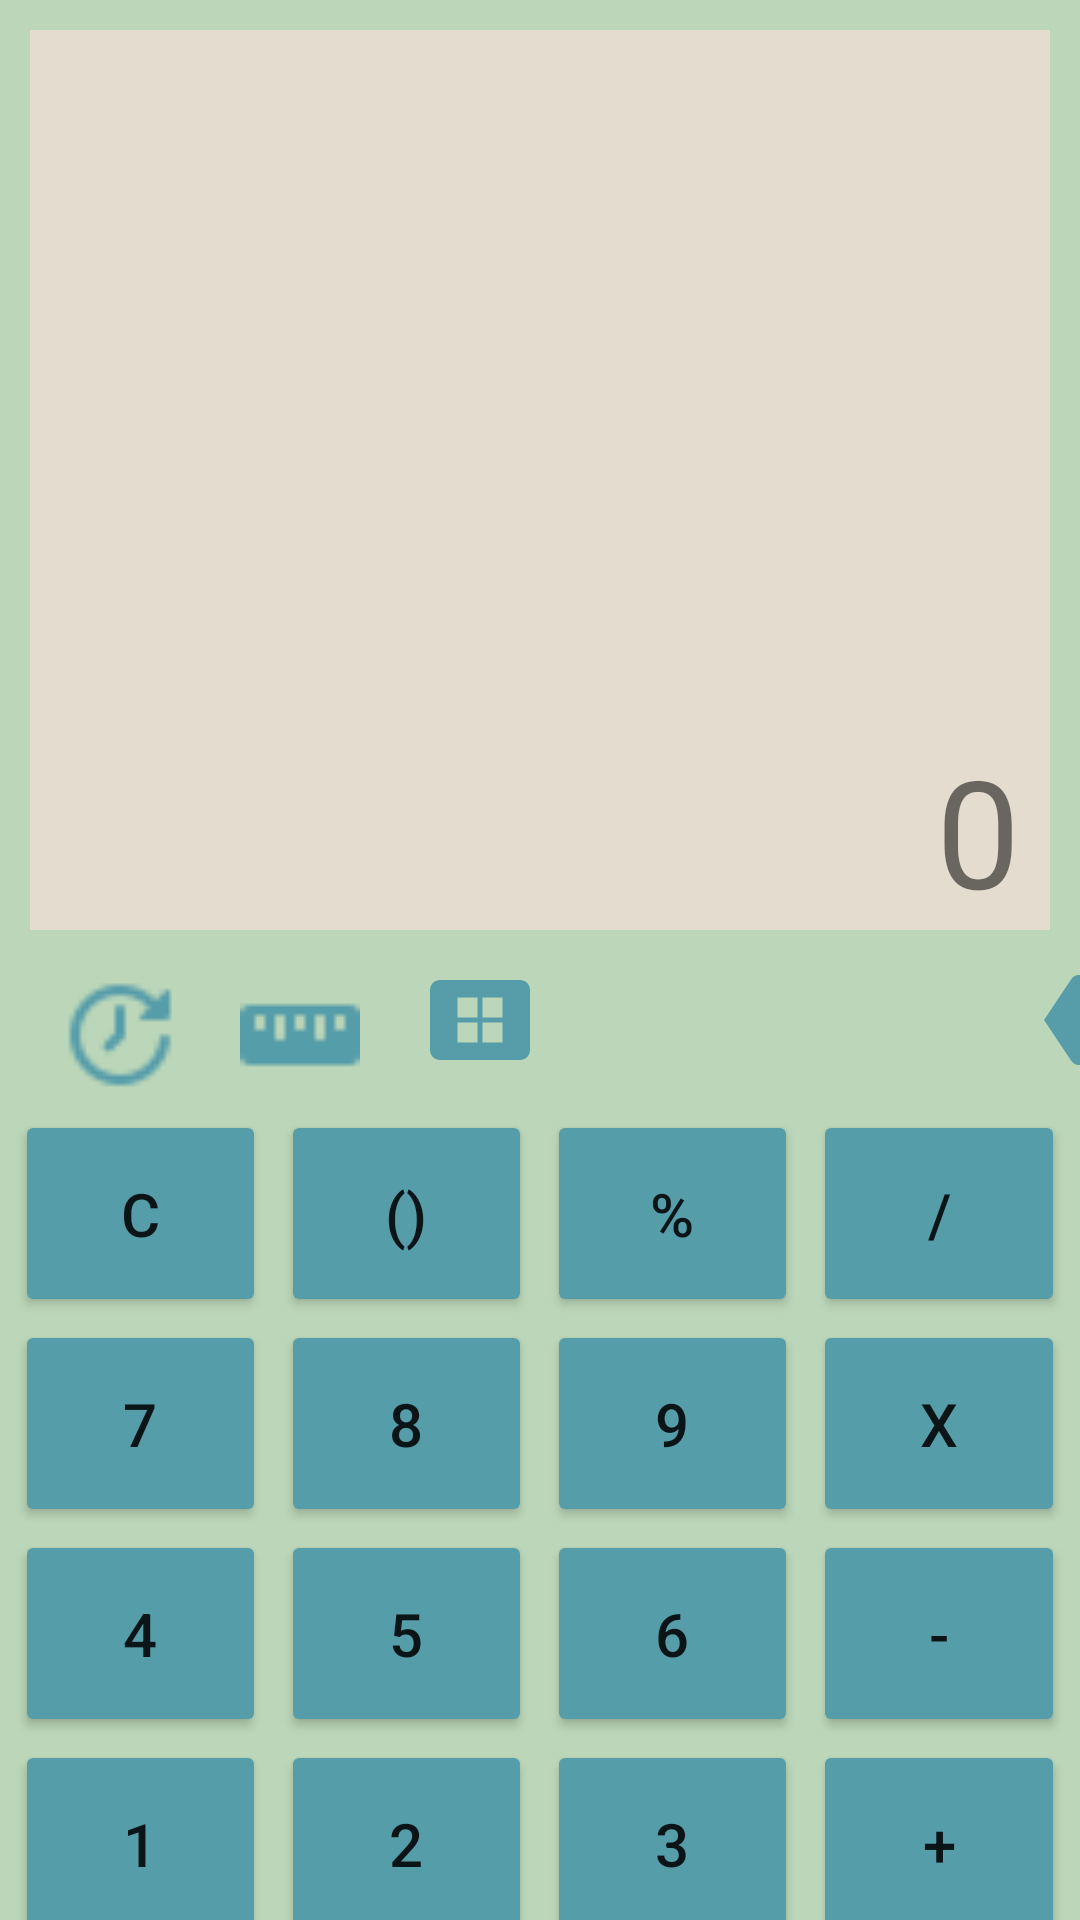

Screen size 1080 × 1920. Icon name, then its center in pixels as (x=x, y=y):
ruler: (x=300, y=1035)
view compact: (x=480, y=1020)
